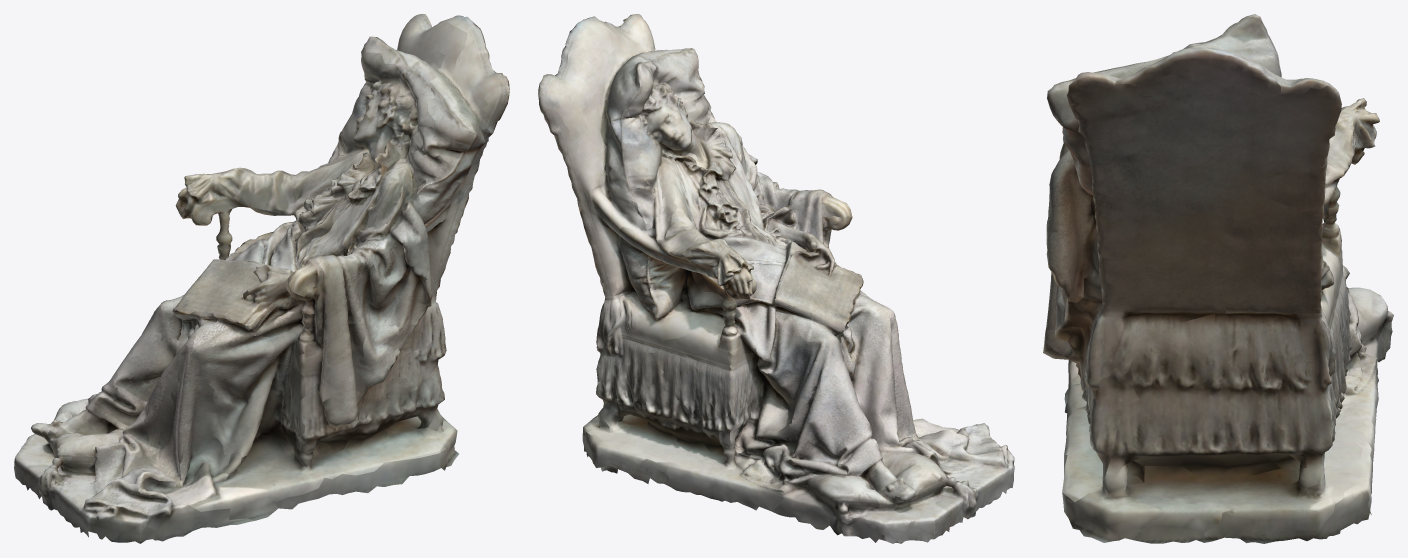
Rendered from Mozart_Big.glb.
3 renders of one model, left to right at view 1: azimuth 30°, elevation 25°; view 2: azimuth 150°, elevation 25°; view 3: azimuth 270°, elevation 25°, orthographic. The views are drawn at different scales.
Visible parts, largest first — view 1: Mesh_0; view 2: Mesh_0; view 3: Mesh_0.
Boxes of the visible parts, box(x1,y1,x2,y2) form: Mesh_0: box(14, 14, 509, 543); Mesh_0: box(538, 14, 1014, 543); Mesh_0: box(1043, 14, 1393, 543).
Size of the model in its own units: 6.18 by 5.63 by 3.38.
Materials: 1 (1 with a texture image).
